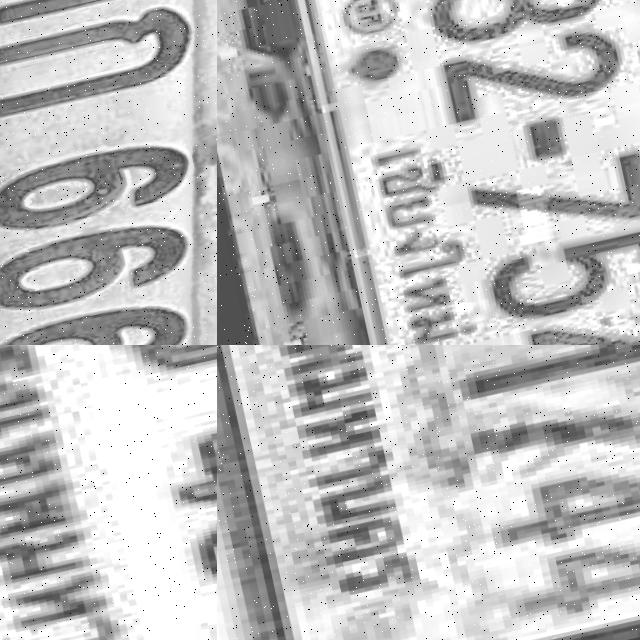license-plate: (267, 0, 640, 345), (217, 345, 640, 640), (0, 0, 217, 345), (0, 345, 217, 640)
